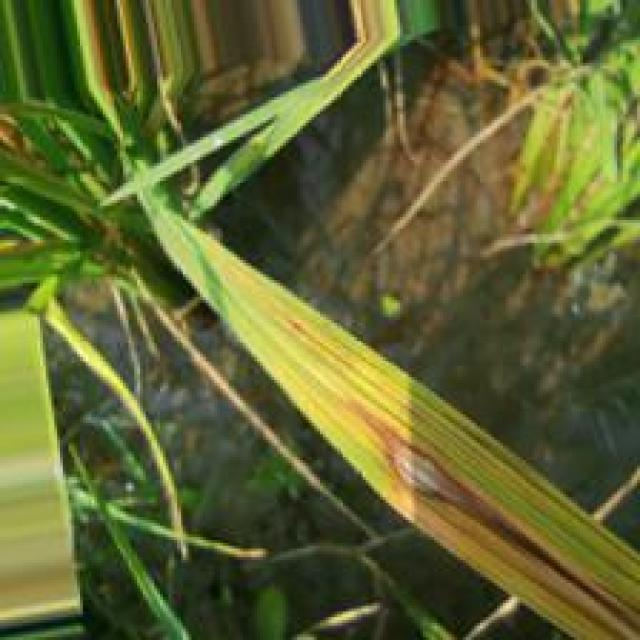Leaf_Blast: (340, 394, 640, 640)
